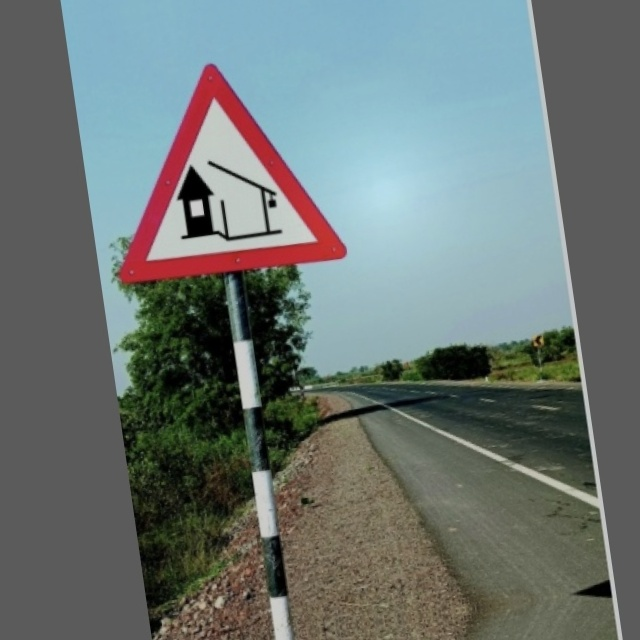Barrier_Ahead: (94, 50, 344, 300)
